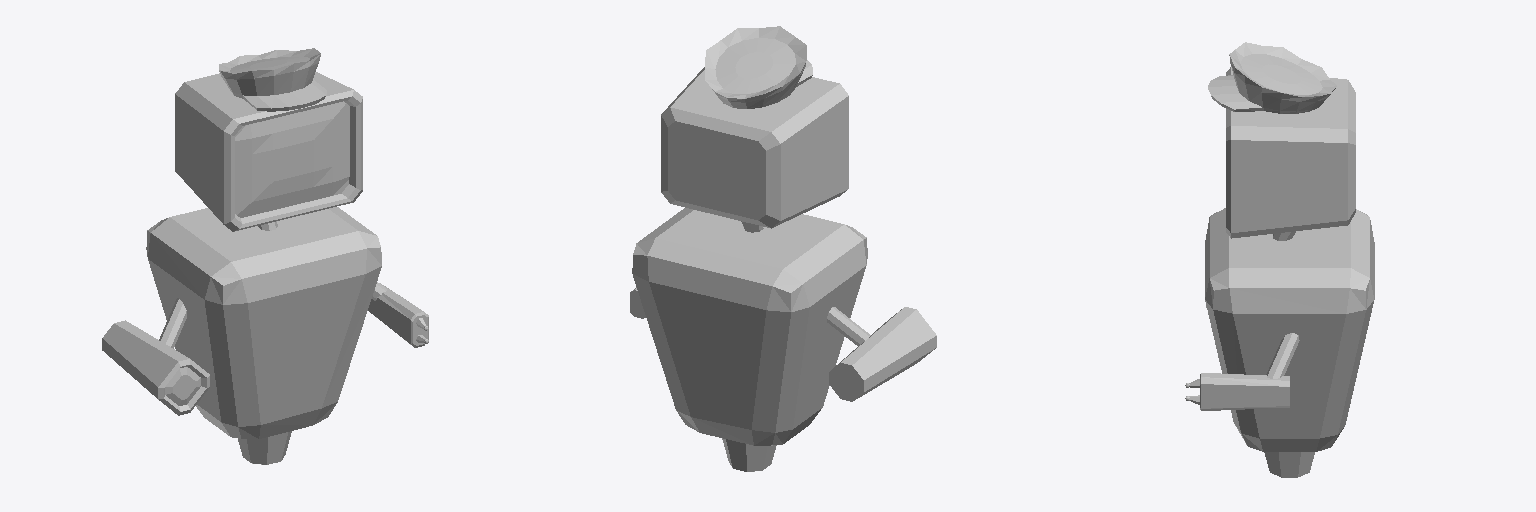
File: OBJ_SecurityGuard.obj
3 views of the same model, side by side, from view 1: azimuth 30°, elevation 25°; view 2: azimuth 150°, elevation 25°; view 3: azimuth 270°, elevation 25° (orthographic).
Visible parts, largest first — view 1: RoboGuard pCube18, RoboGuard pCube19, RoboFace, RoboGuard pCube20 group20, RoboGuard pCylinder7, RoboGuard pCube21, RoboGuard pTorus3, RoboGuard group20 pCylinder5; view 2: RoboGuard pCube18, RoboGuard pCube19, RoboGuard pCylinder7, RoboGuard pCube20 group20, RoboGuard pTorus3, RoboGuard group20 pCylinder5; view 3: RoboGuard pCube18, RoboGuard pCube19, RoboGuard pCylinder7, RoboGuard pCube21, RoboGuard pTorus3, RoboGuard group20 pCylinder5.
Boxes of the visible parts, <box> form: RoboGuard pCube18: <box>146,207,381,438</box>; RoboGuard pCube19: <box>175,72,362,231</box>; RoboFace: <box>235,101,349,217</box>; RoboGuard pCube20 group20: <box>102,320,209,415</box>; RoboGuard pCylinder7: <box>219,48,326,111</box>; RoboGuard pCube21: <box>368,283,428,347</box>; RoboGuard pTorus3: <box>238,431,291,464</box>; RoboGuard group20 pCylinder5: <box>159,282,386,348</box>; RoboGuard pCube18: <box>632,208,867,445</box>; RoboGuard pCube19: <box>661,67,848,228</box>; RoboGuard pCylinder7: <box>705,26,812,108</box>; RoboGuard pCube20 group20: <box>829,307,936,401</box>; RoboGuard pTorus3: <box>722,438,776,471</box>; RoboGuard group20 pCylinder5: <box>827,307,870,345</box>; RoboGuard pCube18: <box>1205,208,1374,451</box>; RoboGuard pCube19: <box>1226,67,1355,238</box>; RoboGuard pCylinder7: <box>1208,42,1336,113</box>; RoboGuard pCube21: <box>1200,373,1289,410</box>; RoboGuard pTorus3: <box>1264,452,1314,477</box>; RoboGuard group20 pCylinder5: <box>1266,333,1299,378</box>.
Size of the model in its own units: 184 by 274 by 113.